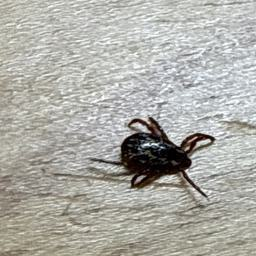Dermacentor variabilis: (91, 116, 217, 199)
